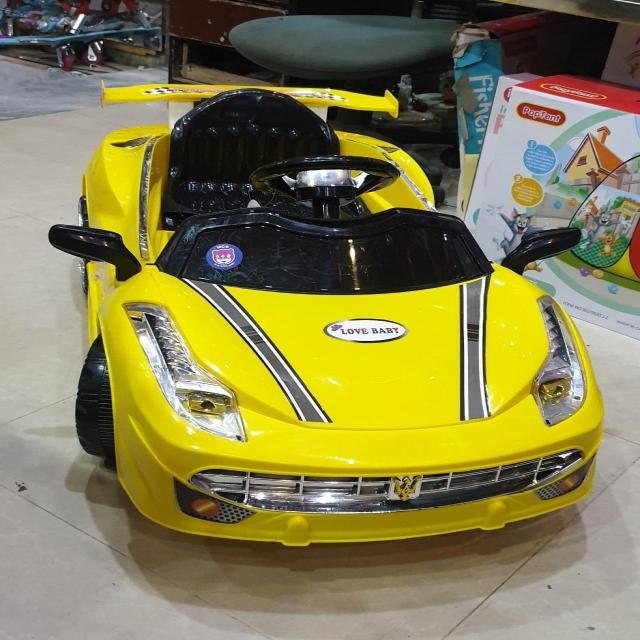Car: (48, 81, 606, 547)
